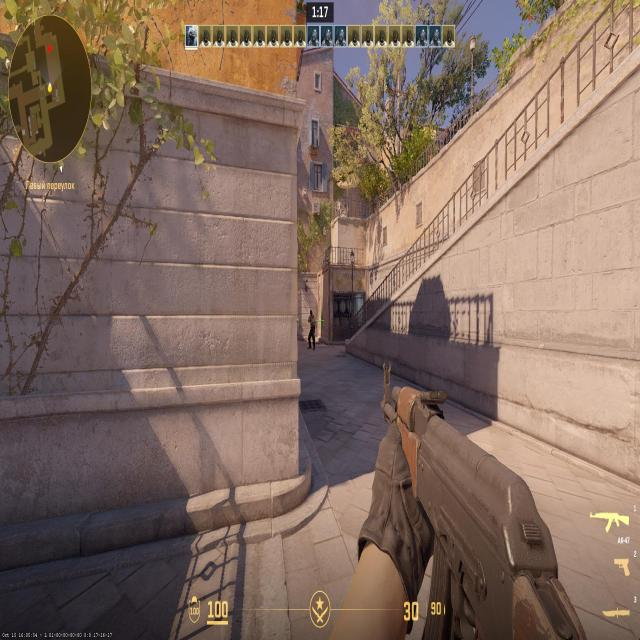T: (308, 308, 315, 344)
T_heat: (310, 312, 312, 316)
